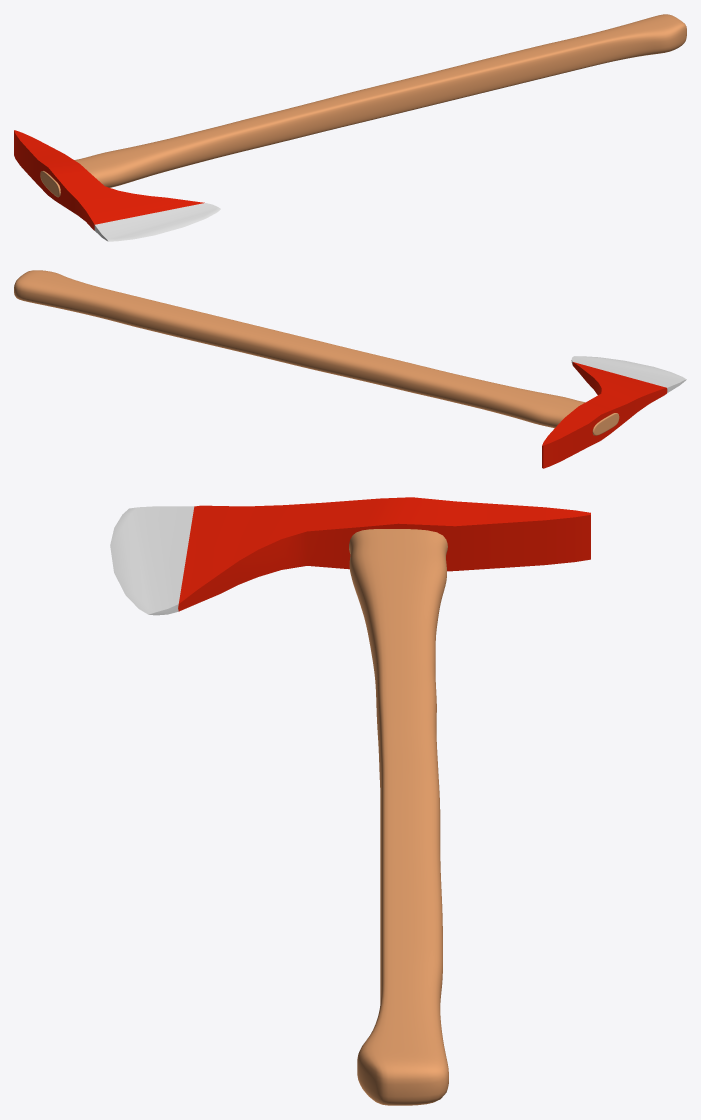
Rendered from axeExport-9.fbx.
The picture shows the model from 3 angles, top to bottom: view 1: azimuth 30°, elevation 25°; view 2: azimuth 150°, elevation 25°; view 3: azimuth 270°, elevation 25°; orthographic projection. The views are drawn at different scales.
Parts seen in each view (by area): view 1: Handle.008; view 2: Handle.008; view 3: Handle.008.
Boxes of the visible parts, x1,y1,x2,y2 form: Handle.008: (14,14,686,241); Handle.008: (14,270,686,468); Handle.008: (110,497,590,1105).
Size of the model in its own units: 2020 by 84.02 by 703.
